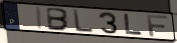3: (97, 11, 119, 35)
B: (46, 6, 71, 32)
F: (146, 14, 169, 38)
I: (36, 7, 44, 31)
L: (72, 9, 95, 34), (123, 13, 144, 36)
